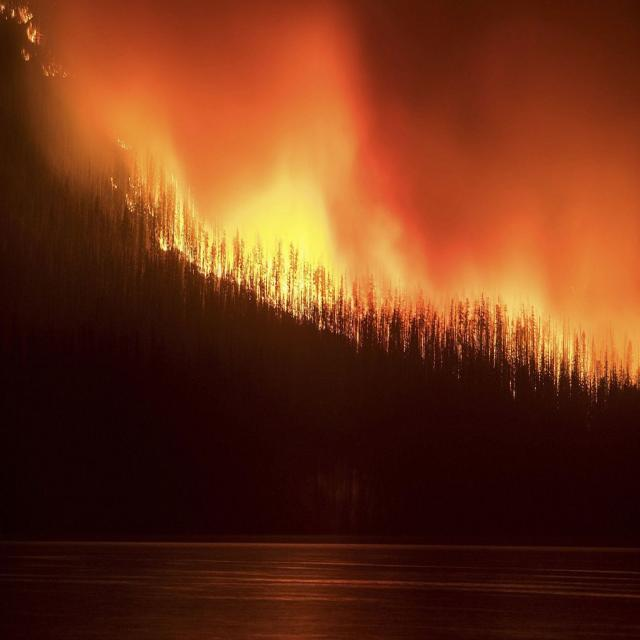fire: (116, 165, 336, 318)
